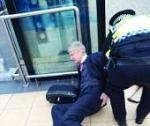fall: (37, 38, 111, 123)
